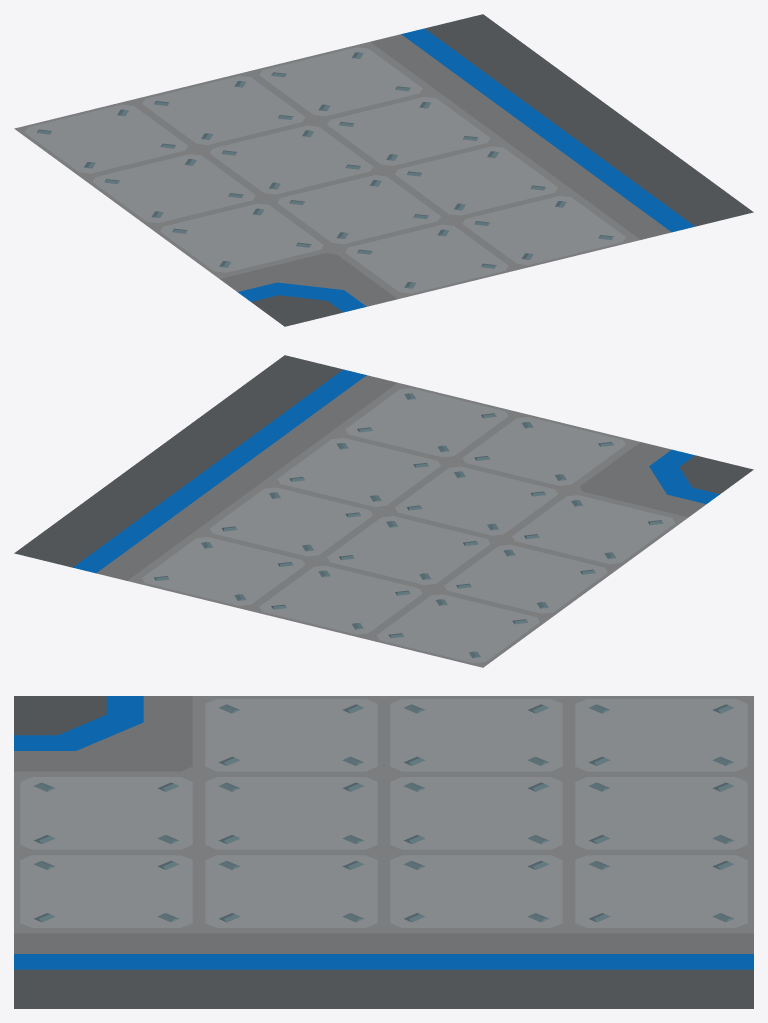
The model's file is Floor_type_B_013.fbx.
3 renders of one model, top to bottom at view 1: azimuth 30°, elevation 25°; view 2: azimuth 150°, elevation 25°; view 3: azimuth 270°, elevation 25°, orthographic. The views are drawn at different scales.
Visible parts, largest first — view 1: Floor_type_B_013; view 2: Floor_type_B_013; view 3: Floor_type_B_013.
Boxes of the visible parts, bbox=[...] form: Floor_type_B_013: bbox=[14, 14, 753, 326]; Floor_type_B_013: bbox=[14, 355, 753, 667]; Floor_type_B_013: bbox=[14, 696, 753, 1008].
Size of the model in its own units: 400 by 400 by 0.8.
